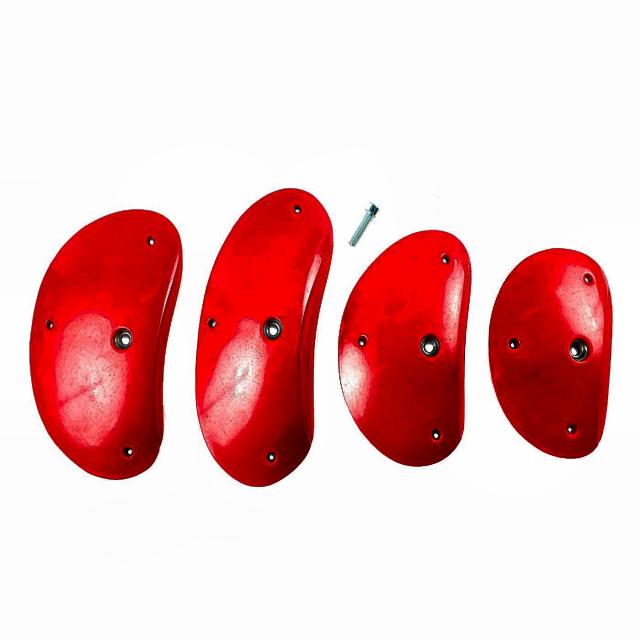Hold: (31, 208, 181, 482), (197, 187, 328, 490), (338, 225, 479, 470), (487, 237, 615, 460)
